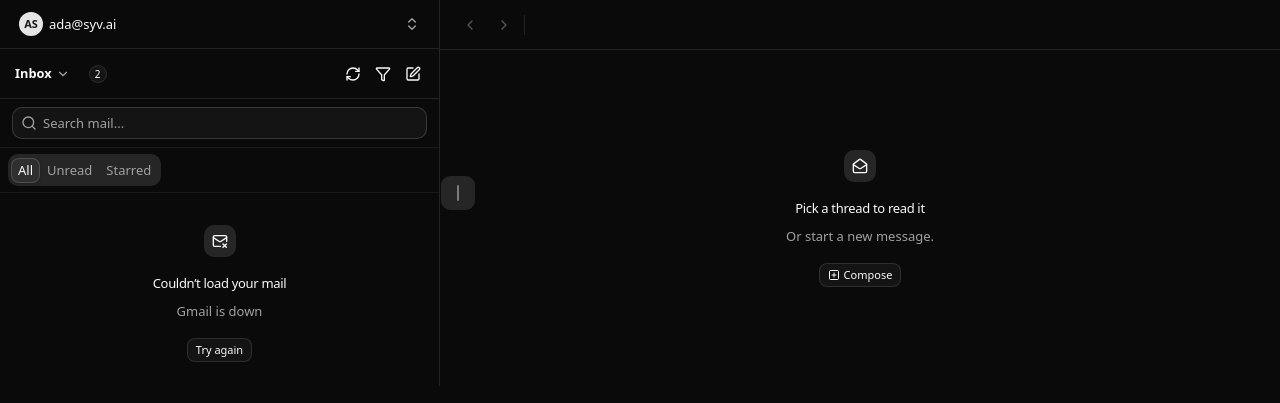
it: a failed load offers Try again, a disconnected one Connections
Expected: the text "Couldn’t load your mail" is shown, [153,273,286,293]
Click the button "Try again".
click(219, 350)  # box [187,338,252,362]
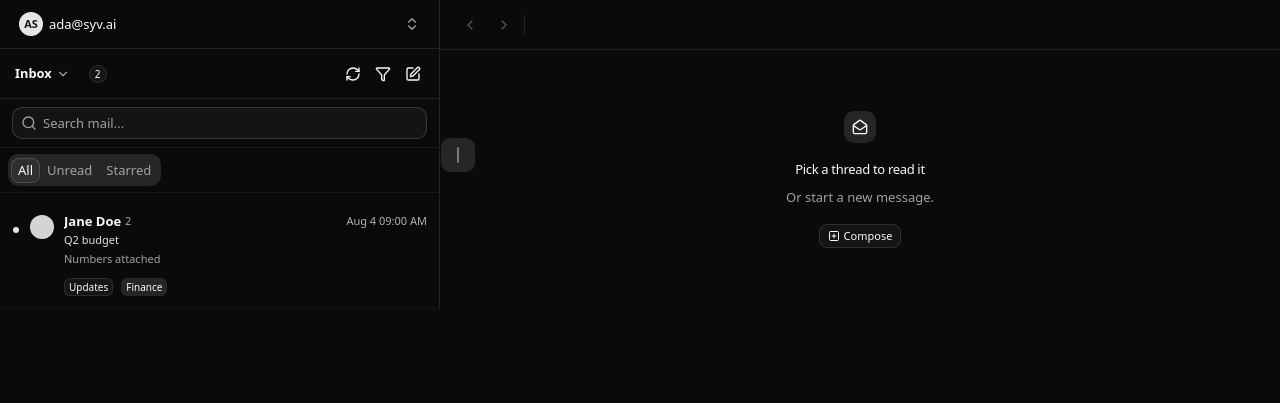
Expected: the list named "Inbox" is shown, [0,201,439,309]
Click the button named "Refresh mail".
click(353, 74)  # box [339,60,367,88]
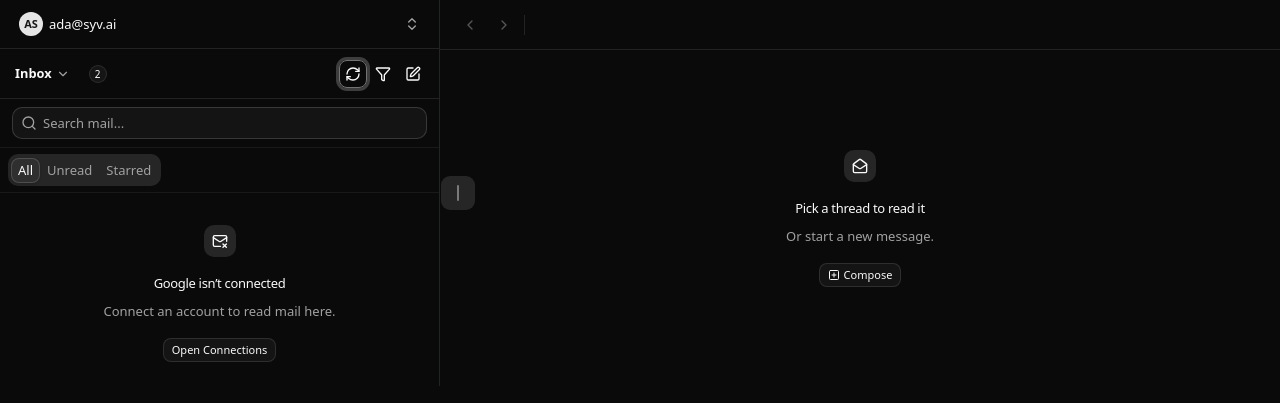
Expected: the text "Google isn’t connected" is shown, [154,273,285,293]
